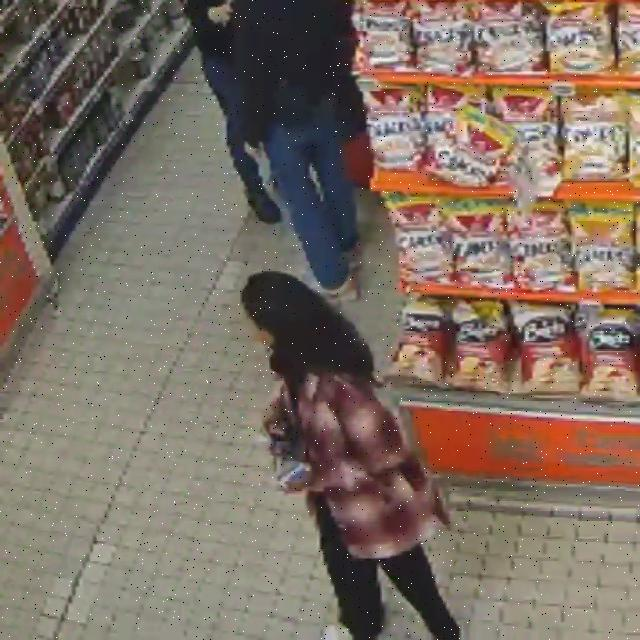article: (271, 439, 309, 489)
hands: (283, 466, 320, 491), (265, 422, 286, 450), (208, 0, 232, 24), (244, 143, 264, 161)
person: (242, 273, 460, 639), (234, 0, 359, 299), (185, 0, 281, 224)
